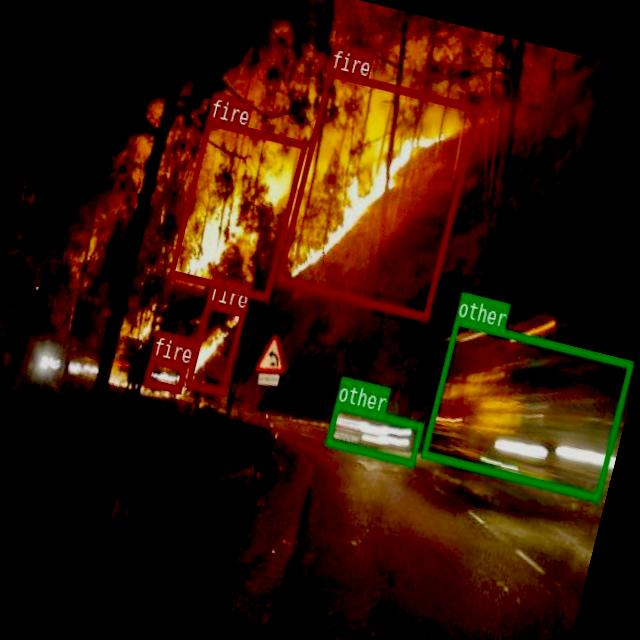fire: (274, 67, 480, 319), (167, 116, 306, 300), (185, 300, 245, 394), (143, 354, 187, 392)
